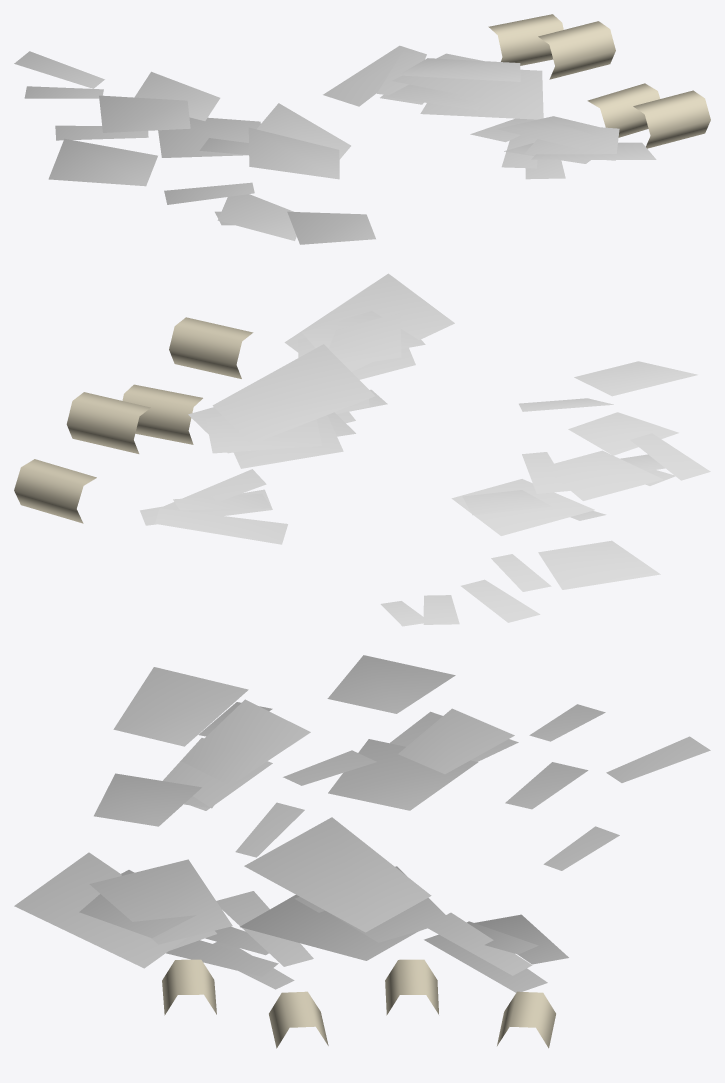
File: fill_basket_herbs_LOD1.glb
The picture shows the model from 3 angles, top to bottom: view 1: azimuth 30°, elevation 25°; view 2: azimuth 150°, elevation 25°; view 3: azimuth 270°, elevation 25°; orthographic projection. The views are drawn at different scales.
Visible parts, largest first — view 1: HY_fill_basket_herbs_LOD1; view 2: HY_fill_basket_herbs_LOD1; view 3: HY_fill_basket_herbs_LOD1.
Boxes of the visible parts, x1,y1,x2,y2 form: HY_fill_basket_herbs_LOD1: [14, 14, 710, 244]; HY_fill_basket_herbs_LOD1: [14, 273, 710, 626]; HY_fill_basket_herbs_LOD1: [14, 655, 710, 1048].
Size of the model in its own units: 0.3128 by 0.0627 by 0.2927.
